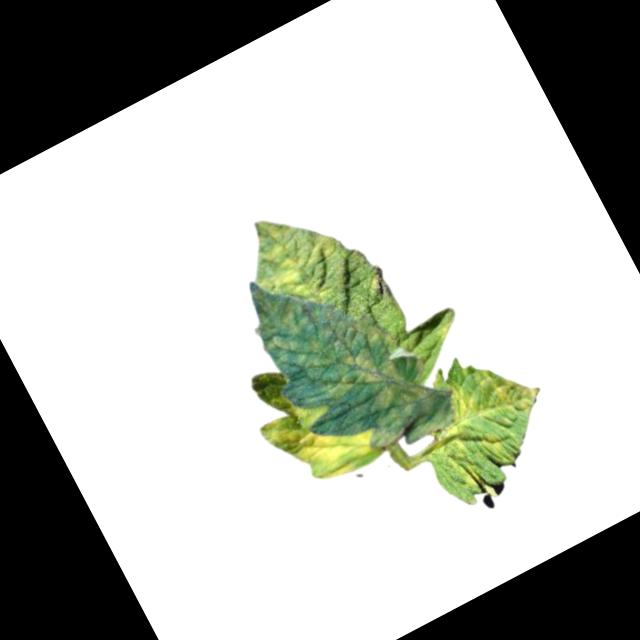Leaf_Mold: (259, 275, 438, 472), (411, 343, 575, 510), (231, 192, 360, 324), (256, 378, 387, 501)
